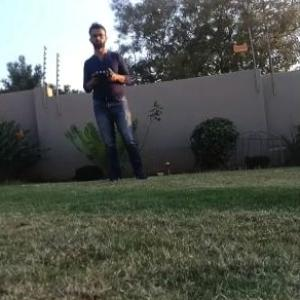follow: (81, 13, 154, 185)
